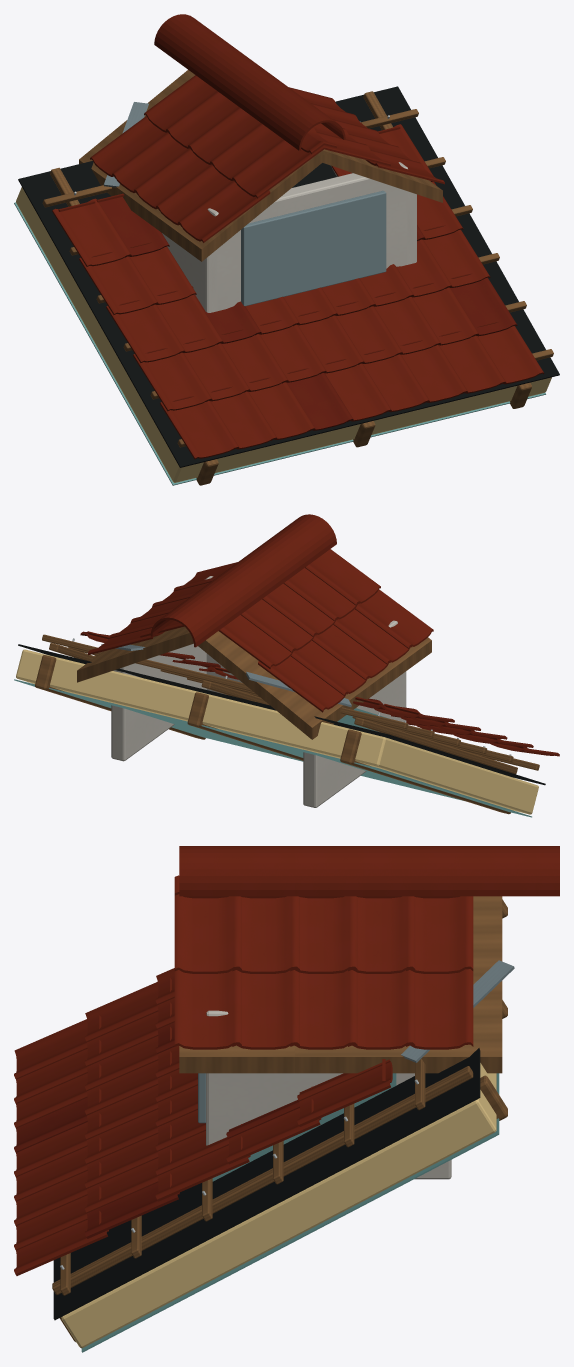
Rendered from modell.glb.
The picture shows the model from 3 angles, top to bottom: view 1: azimuth 30°, elevation 25°; view 2: azimuth 150°, elevation 25°; view 3: azimuth 270°, elevation 25°; orthographic projection. The views are drawn at different scales.
Parts seen in each view (by area): view 1: s10-deckziegel_deckung, s10-gaubendach_deckung, s10-zusatzebene_zusatzebene, s10-wange_.001, s10-daemmung_daemmung, s10-wange_, s10-deckziegel_deckung.001, s10-gaubendach_tragwerk, s10-lattung_lattung, s10-luftdichtheit_luftdichtheit, s10-sparren_tragwerk; view 2: s10-gaubendach_deckung, s10-daemmung_daemmung, s10-gaubendach_tragwerk, s10-wange_, s10-lattung_lattung, s10-luftdichtheit_luftdichtheit, s10-sparren_tragwerk, s10-deckziegel_deckung, s10-zusatzebene_zusatzebene, s10-kehle_deckung, s10-deckziegel_deckung.001; view 3: s10-gaubendach_deckung, s10-deckziegel_deckung, s10-daemmung_daemmung, s10-zusatzebene_zusatzebene, s10-gaubendach_tragwerk, s10-lattung_lattung, s10-wange_, s10-deckziegel_deckung.001, s10-wangenanschluss_zusatzebene, s10-luftdichtheit_luftdichtheit, s10-kehle_deckung, s10-sparren_tragwerk (+1 smaller).
Part boxes in pixels (box(x1,y1,x2,y2)): s10-deckziegel_deckung: box(52, 124, 544, 459); s10-gaubendach_deckung: box(90, 14, 444, 242); s10-zusatzebene_zusatzebene: box(18, 86, 559, 467); s10-wange_.001: box(241, 190, 386, 306); s10-daemmung_daemmung: box(16, 187, 551, 482); s10-wange_: box(162, 162, 416, 312); s10-deckziegel_deckung.001: box(99, 197, 517, 431); s10-gaubendach_tragwerk: box(79, 70, 442, 261); s10-lattung_lattung: box(42, 91, 553, 447); s10-luftdichtheit_luftdichtheit: box(14, 202, 545, 485); s10-sparren_tragwerk: box(196, 382, 531, 485); s10-gaubendach_deckung: box(88, 514, 433, 712); s10-daemmung_daemmung: box(16, 649, 538, 814); s10-gaubendach_tragwerk: box(77, 626, 431, 739); s10-wange_: box(111, 576, 406, 807); s10-lattung_lattung: box(42, 634, 539, 774); s10-luftdichtheit_luftdichtheit: box(14, 679, 531, 817); s10-sparren_tragwerk: box(35, 655, 510, 814); s10-deckziegel_deckung: box(80, 631, 559, 756); s10-zusatzebene_zusatzebene: box(18, 644, 545, 785); s10-kehle_deckung: box(101, 644, 351, 706); s10-deckziegel_deckung.001: box(172, 659, 415, 725); s10-gaubendach_deckung: box(174, 846, 559, 1049); s10-deckziegel_deckung: box(14, 968, 392, 1275); s10-daemmung_daemmung: box(61, 1063, 496, 1348); s10-zusatzebene_zusatzebene: box(53, 1048, 480, 1320); s10-gaubendach_tragwerk: box(179, 896, 502, 1073); s10-lattung_lattung: box(52, 1059, 473, 1295); s10-wange_: box(206, 1010, 451, 1179); s10-deckziegel_deckung.001: box(14, 1022, 299, 1238); s10-wangenanschluss_zusatzebene: box(212, 1086, 396, 1198); s10-luftdichtheit_luftdichtheit: box(81, 1073, 499, 1352); s10-kehle_deckung: box(401, 960, 514, 1062); s10-sparren_tragwerk: box(59, 899, 507, 1341).
Bounding box in the file's own units: 2.39 × 1.78 × 2.27.
Materials: 10 (5 with a texture image).
